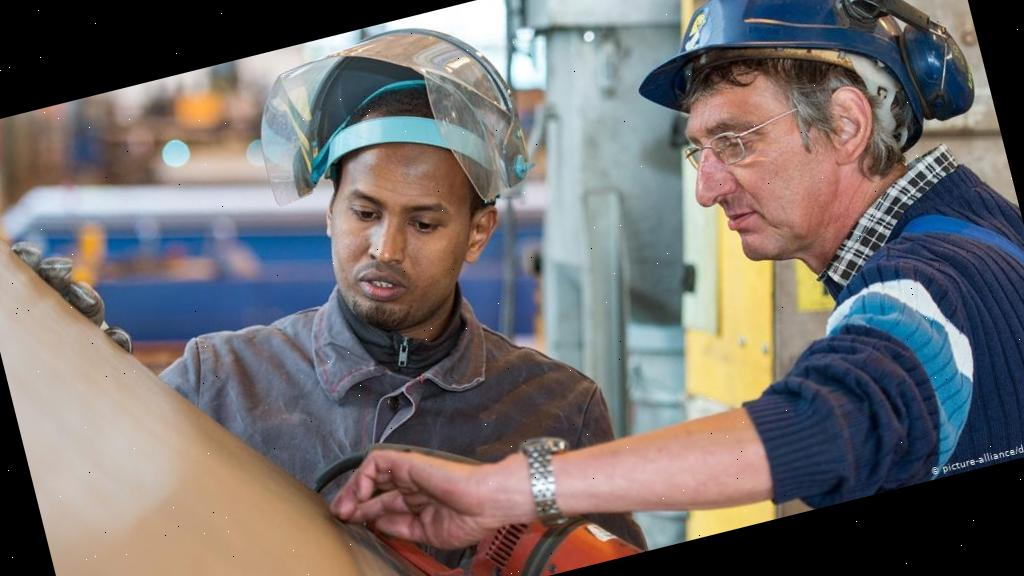helmet: (611, 0, 935, 206)
no_wear: (708, 206, 1024, 521)
